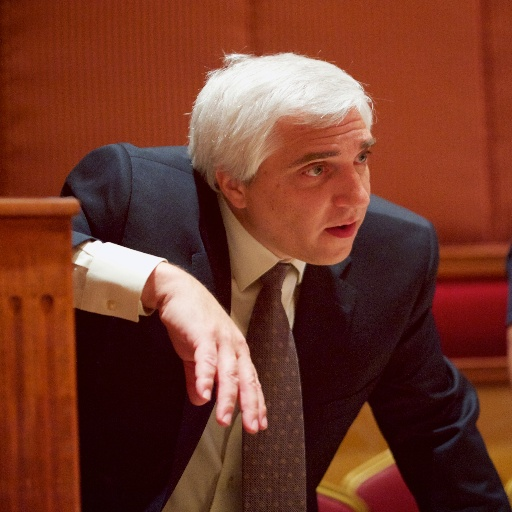hand: (159, 277, 268, 435)
